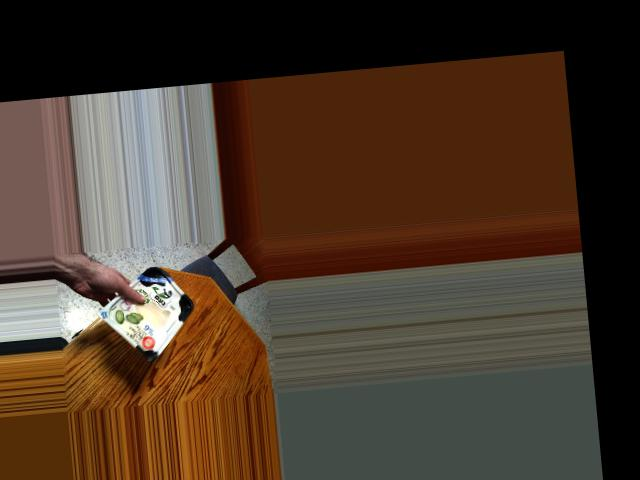cheese: (124, 269, 185, 354)
